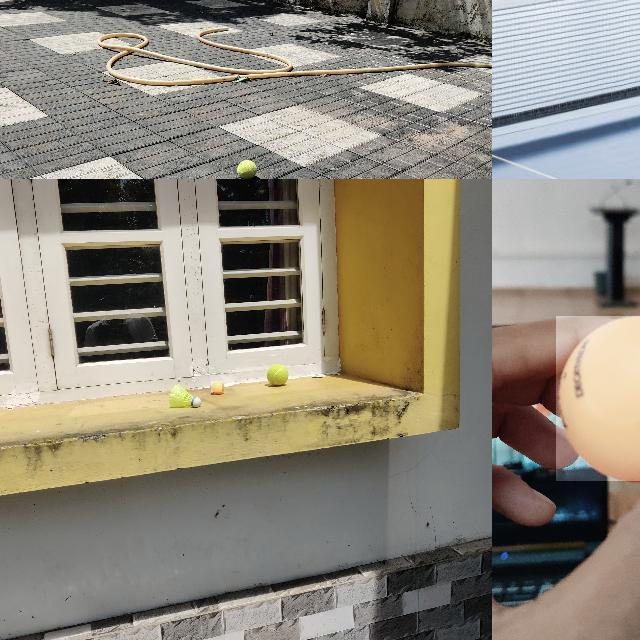ping-pong-ball: (556, 315, 639, 483), (210, 381, 223, 393)
